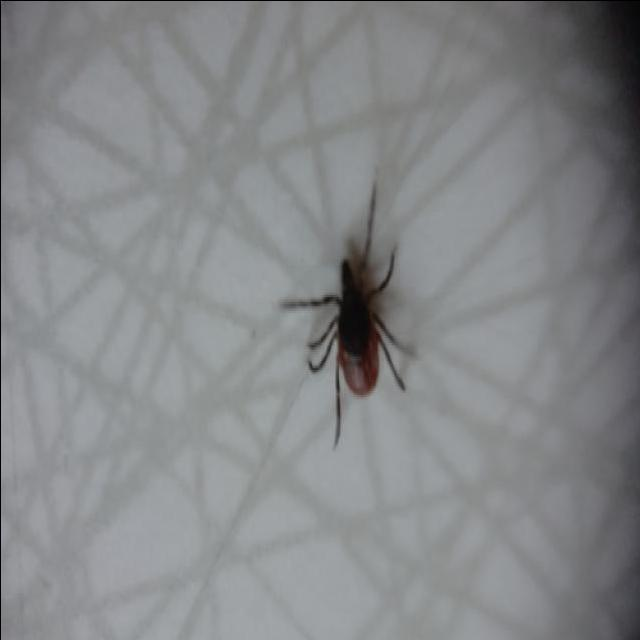Ixodes Ricinus-F: (280, 169, 417, 449)
